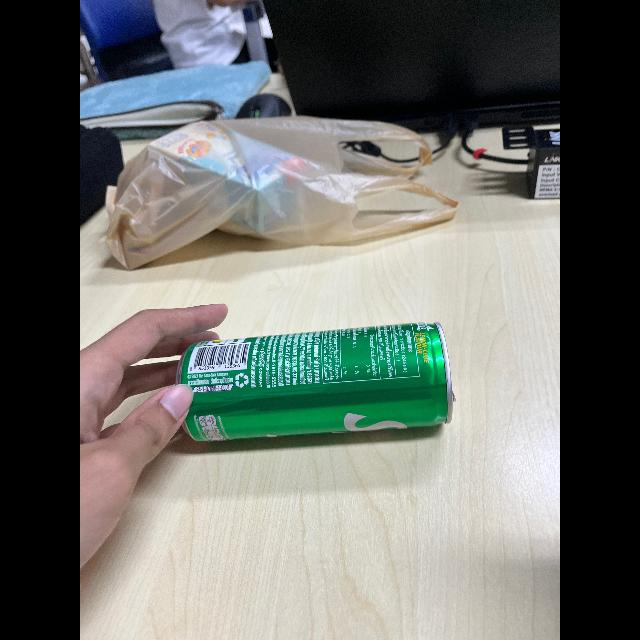can: (168, 312, 472, 468)
